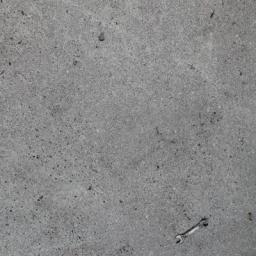FOD: (174, 216, 212, 248)
